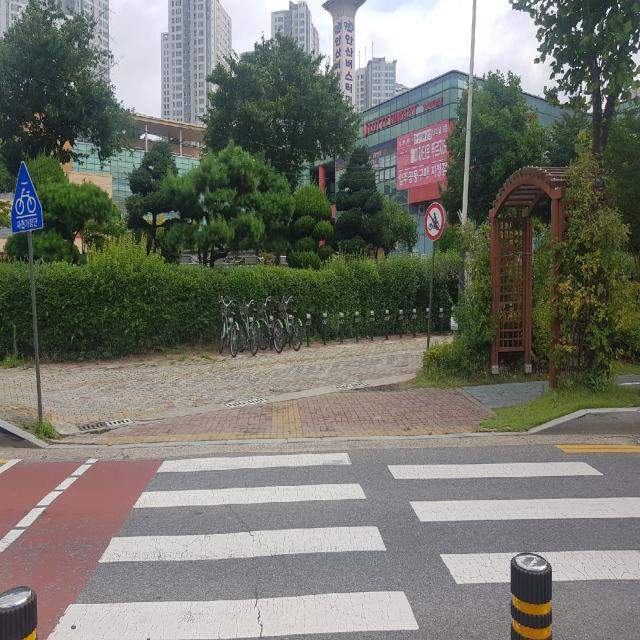횡단보도: (46, 451, 639, 640)
